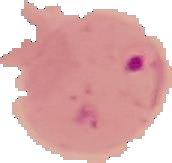parasitized: (37, 26, 161, 156), (112, 38, 165, 114)
